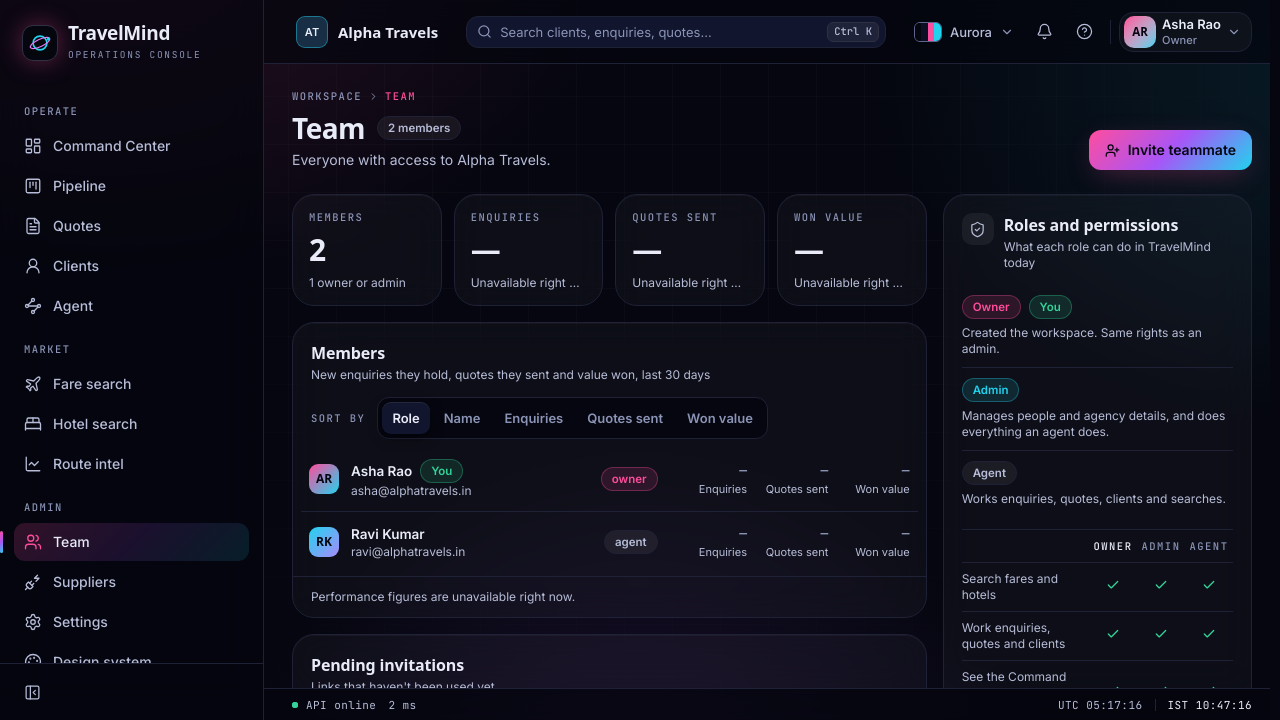
Scenario: an owner invites a teammate and gets a one-time link
Click the button "Invite teammate".
click(1170, 150)  # box 1089,130 -> 1252,170
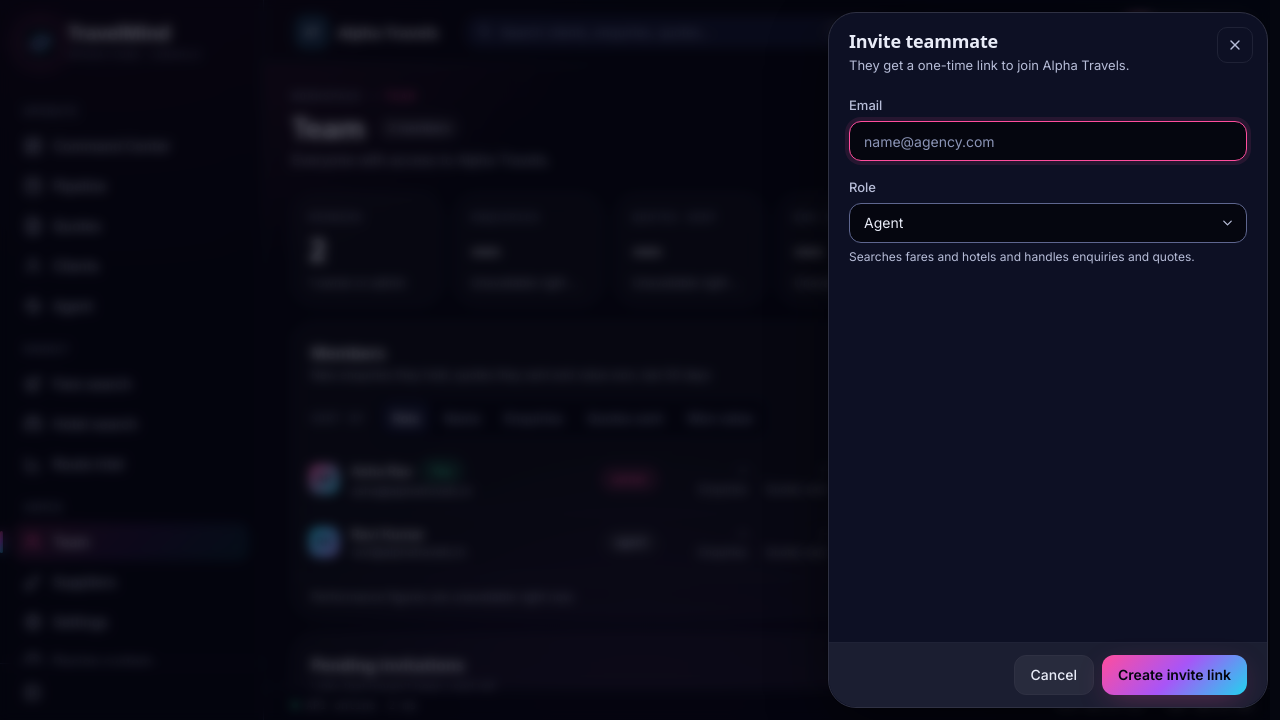
Type "neha@alphatravels.in" into the field labelled "Email".
click(1048, 141); type("neha@alphatravels.in")  # box 849,121 -> 1247,161
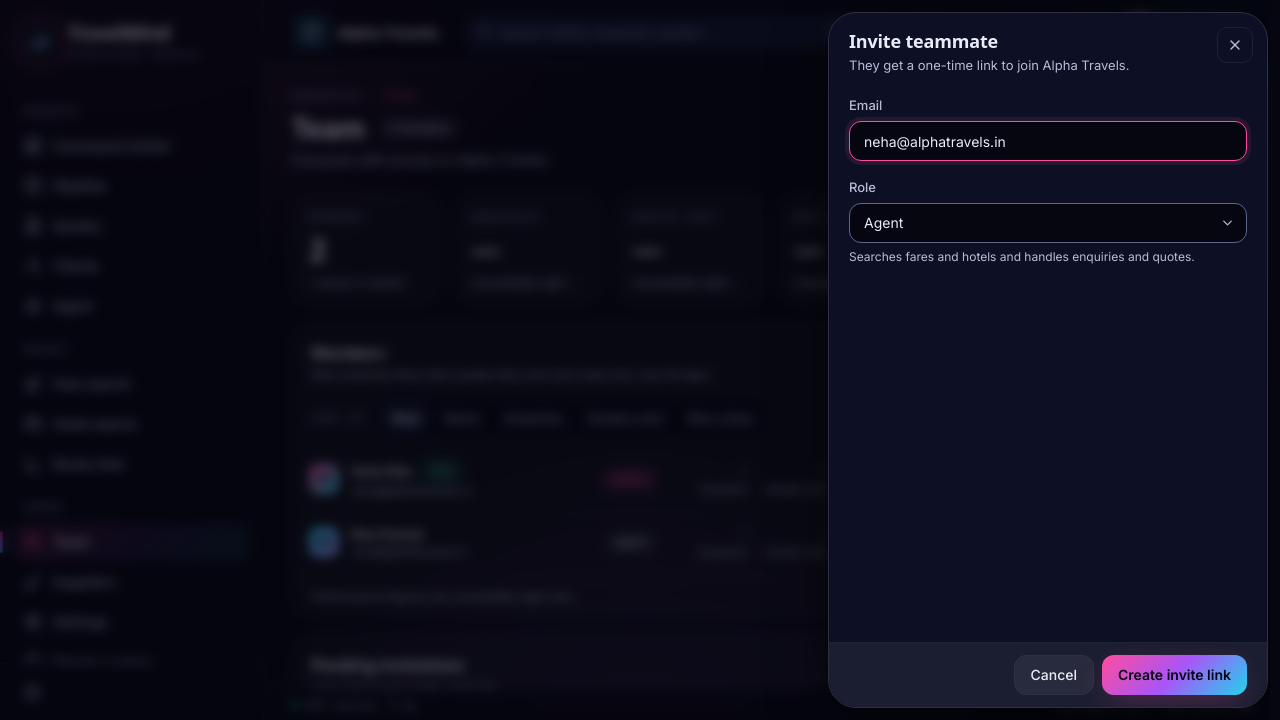
Select "Admin" in the dropdown labelled "Role" at [1048, 223], box 849,203 -> 1247,243
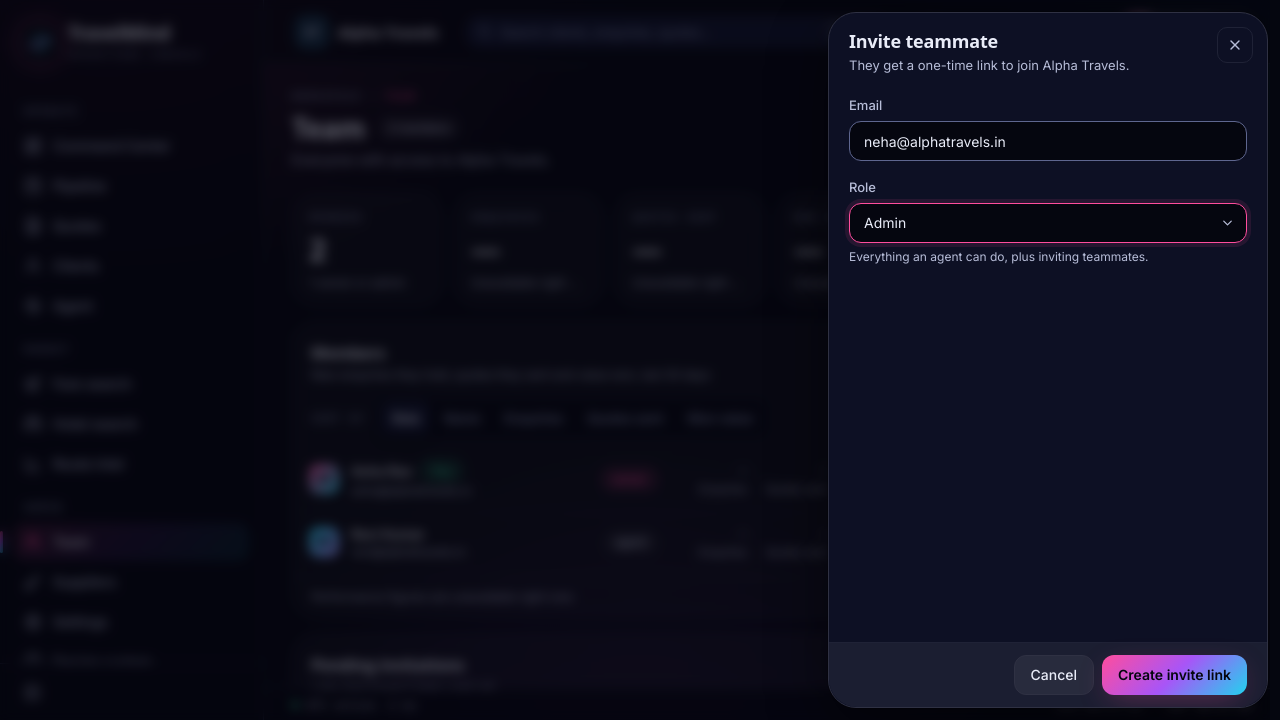
Click the button "Create invite link".
click(1174, 675)  # box 1102,655 -> 1247,695
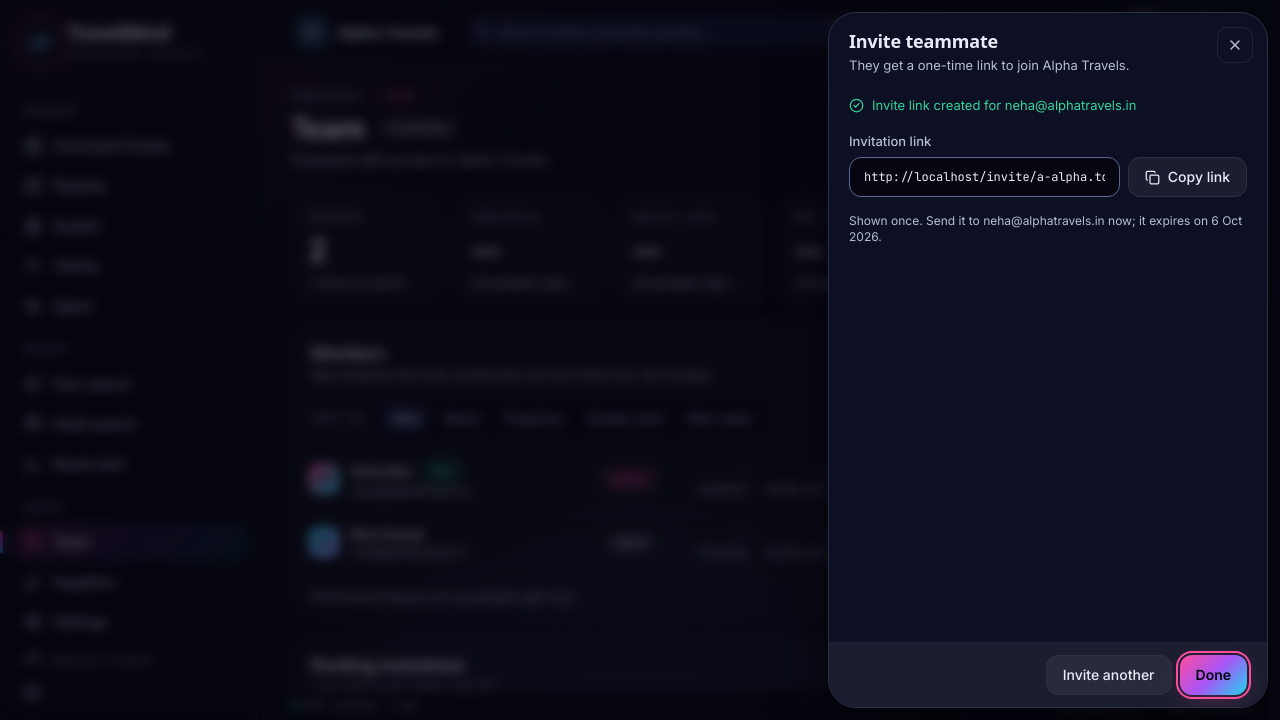
Expected: the text "Shown once" is shown, 849,213 -> 983,228
Click the button "Copy link".
click(1187, 177)  # box 1128,157 -> 1247,197
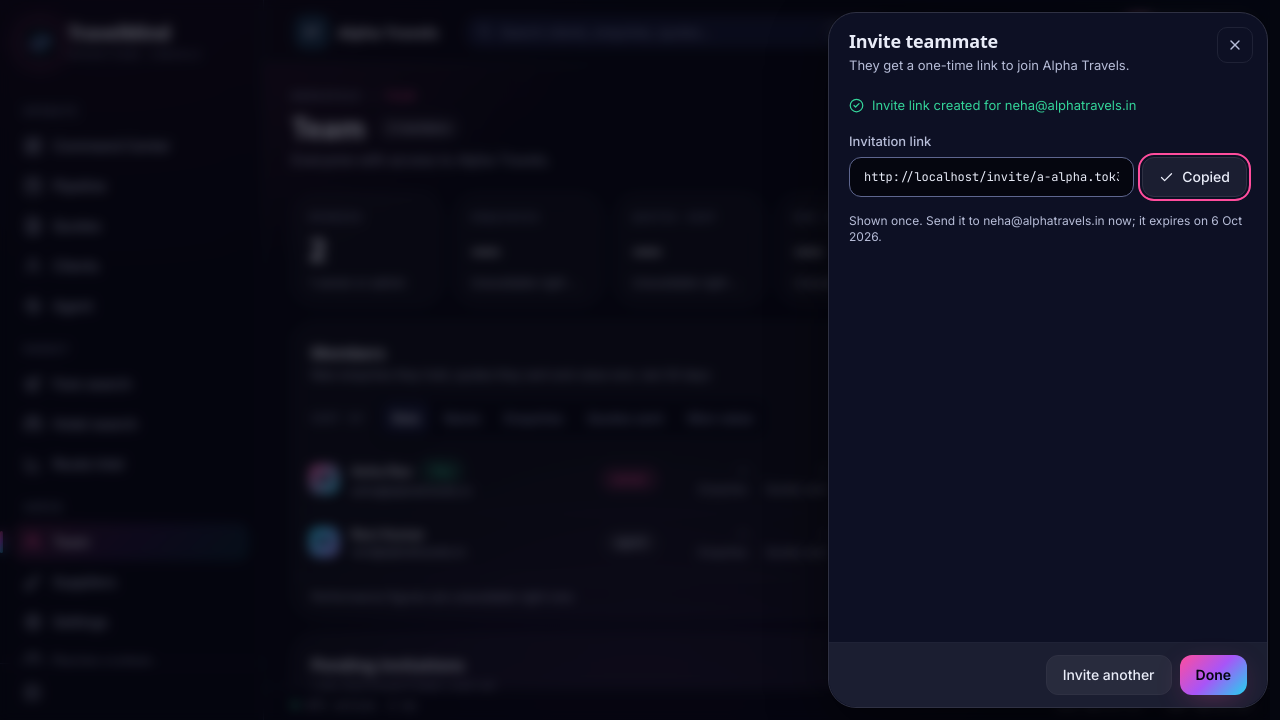
Expected: the button "Copied" is shown, 1142,157 -> 1247,197
Click the button "Done".
click(1213, 675)  # box 1180,655 -> 1247,695
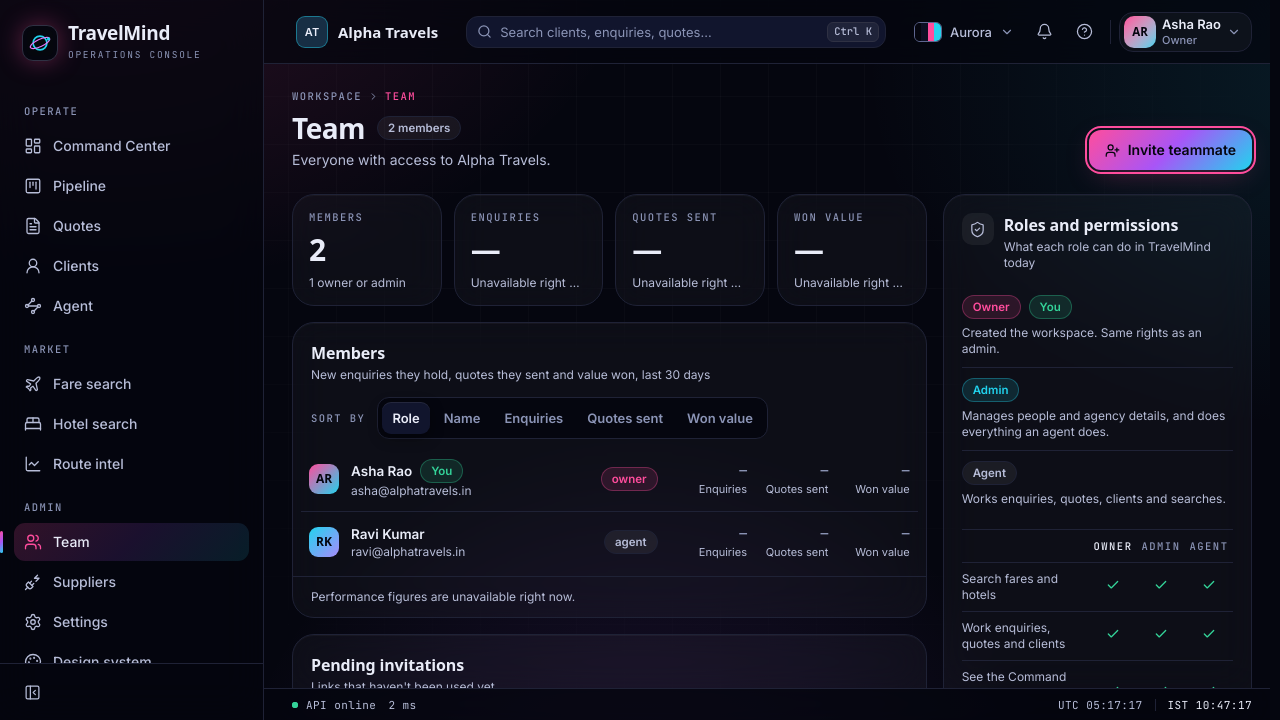
Expected: the dialog is gone
